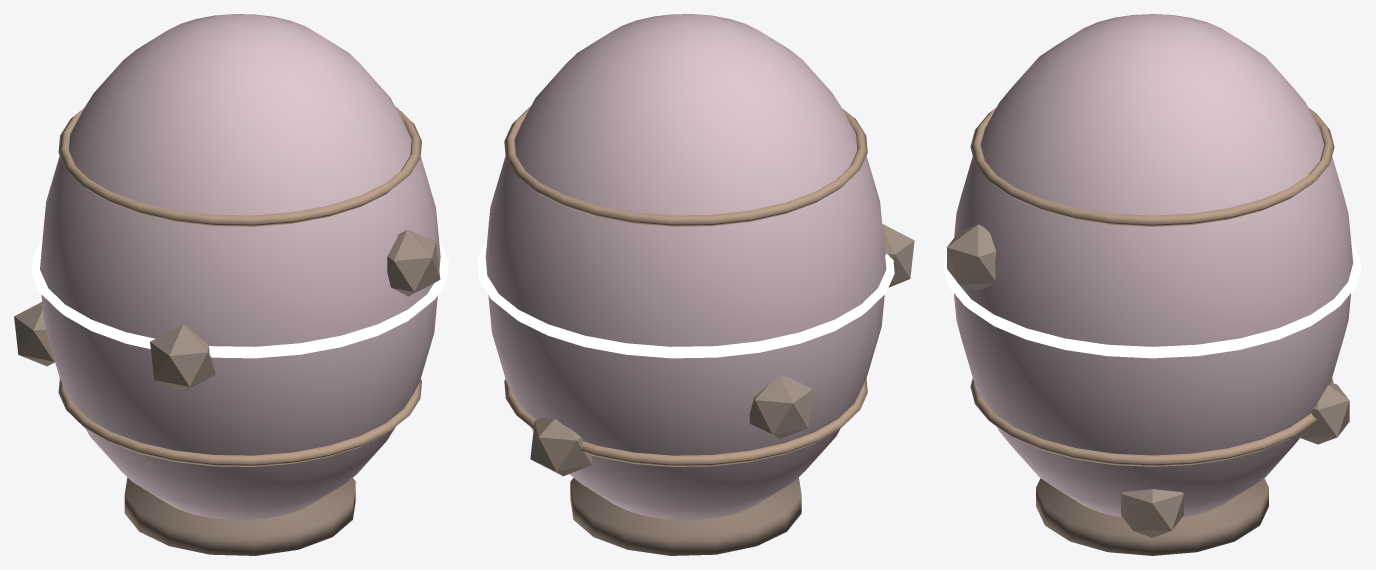
The model's file is egg_blossom_00.glb.
3 views of the same model, side by side, from view 1: azimuth 30°, elevation 25°; view 2: azimuth 150°, elevation 25°; view 3: azimuth 270°, elevation 25° (orthographic).
Visible parts, largest first — view 1: ball; view 2: ball; view 3: ball.
Part boxes in pixels (x1,y1,x2,y2): ball: [14, 14, 448, 555]; ball: [477, 14, 914, 555]; ball: [943, 14, 1361, 555].
Bounding box in the file's own units: 0.79 × 1 × 0.79.
